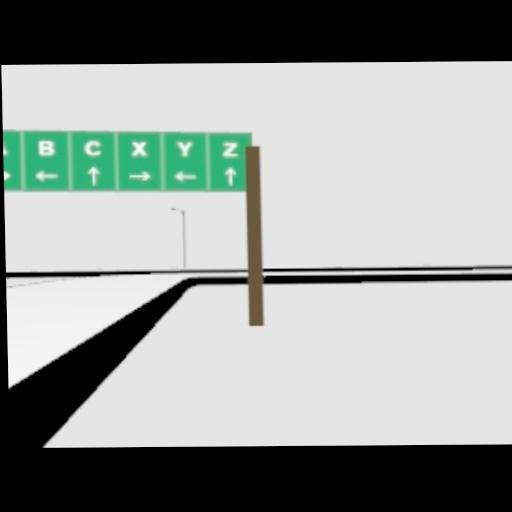A: (4, 137, 9, 154)
B: (37, 139, 54, 155)
C: (84, 137, 101, 154)
Left: (34, 169, 58, 181), (172, 169, 196, 179)
Right: (128, 169, 152, 179), (4, 169, 10, 179)
Straight: (88, 165, 100, 184), (224, 165, 236, 184)
X: (130, 139, 146, 155)
Y: (175, 139, 191, 155)
Z: (221, 140, 238, 156)
